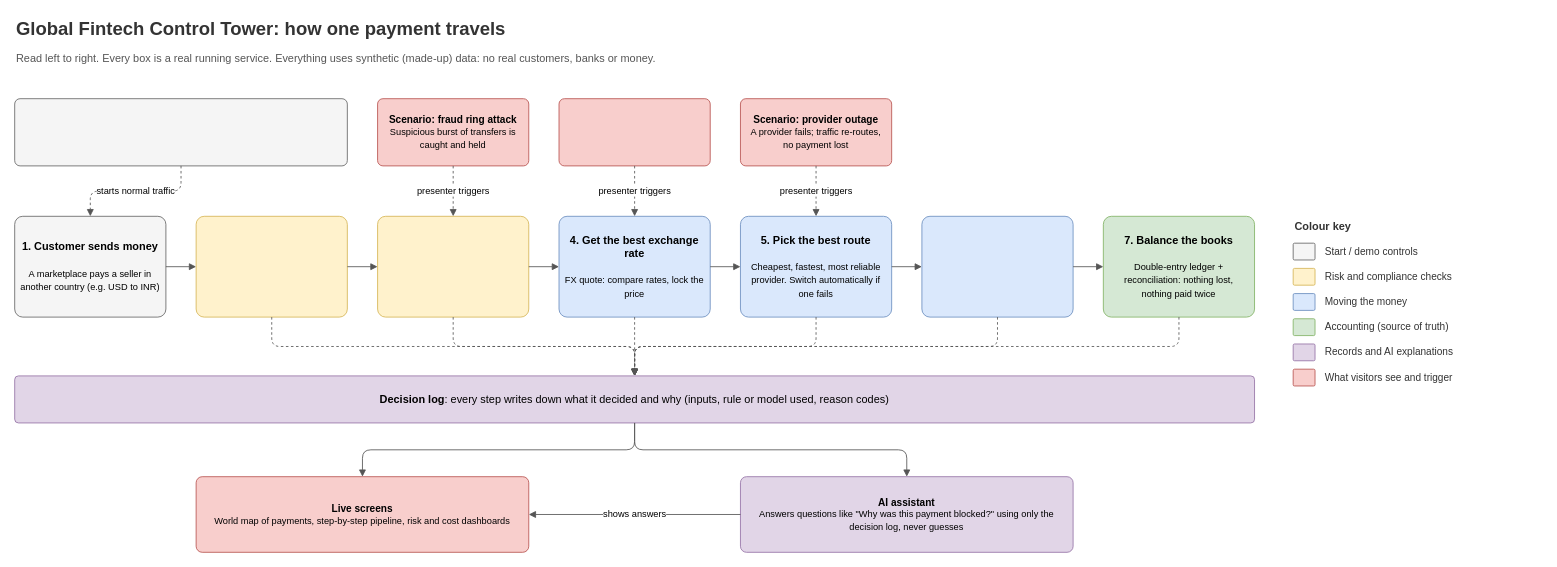
Image size: 1557x567. Some labels were removed from this diagram. The box of each missing label's shape, as (x1, y1, x2, y2) in pixels:
2. Check who they are Identity check (KYC) and sanctions-list screening: (195, 215, 347, 317)
3. Check it is safe Fraud score and money-laundering (AML) pattern checks: (377, 215, 529, 317)
6. Deliver the money Payment network sends it using ISO 20022 bank messages: (921, 215, 1073, 317)
Demo control room Presenter tablet: start scenarios, pause, reset in 10 s: (14, 98, 347, 166)
Scenario: currency spike Rate jumps; system compares lock now vs. wait: (558, 98, 710, 166)
